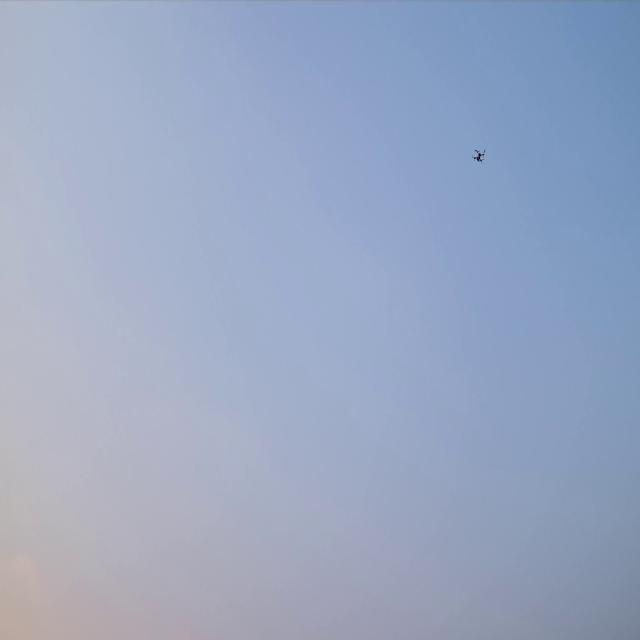UAV: (474, 150, 484, 161)
